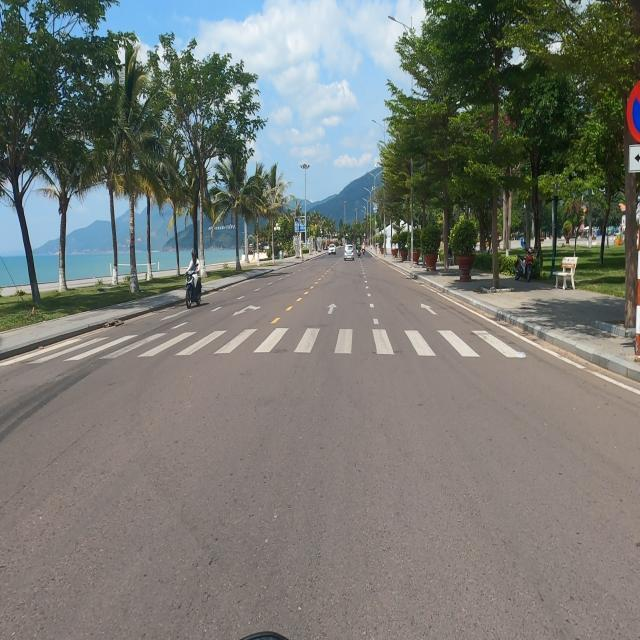walk-crossing: (47, 330, 520, 363)
